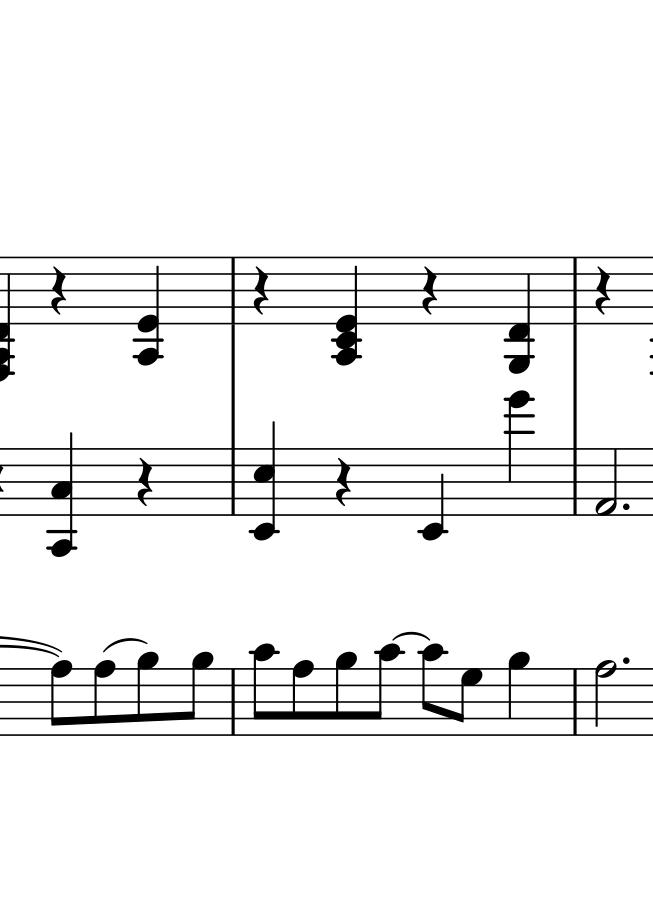2_1: (595, 446, 620, 518)
2_8: (592, 657, 619, 738)
4_-2: (420, 446, 446, 542)
4_-2_5: (248, 423, 281, 542)
4_-4_0: (133, 256, 165, 366)
4_-4_3: (45, 432, 80, 557)
4_-5_-1: (503, 256, 535, 374)
4_9: (506, 650, 530, 738)
4_th: (332, 254, 365, 366)
8_10: (418, 642, 446, 739), (372, 643, 401, 736), (250, 643, 278, 738)
8_7: (456, 666, 484, 738)
8_8: (47, 658, 74, 738), (90, 660, 115, 738), (290, 660, 314, 738)
8_9: (181, 651, 213, 739), (332, 652, 357, 739), (136, 652, 161, 738)
Rests4: (133, 456, 157, 511), (331, 457, 356, 508), (419, 264, 442, 315), (250, 265, 273, 315), (49, 266, 69, 315), (594, 264, 611, 317)
Single_barline: (563, 448, 585, 515), (223, 447, 244, 516), (564, 258, 586, 323), (566, 668, 587, 734), (223, 257, 243, 324), (222, 669, 242, 736)
Slur: (103, 639, 144, 651), (391, 631, 432, 641)
dot: (617, 654, 633, 671), (619, 654, 632, 667), (620, 500, 632, 511)
